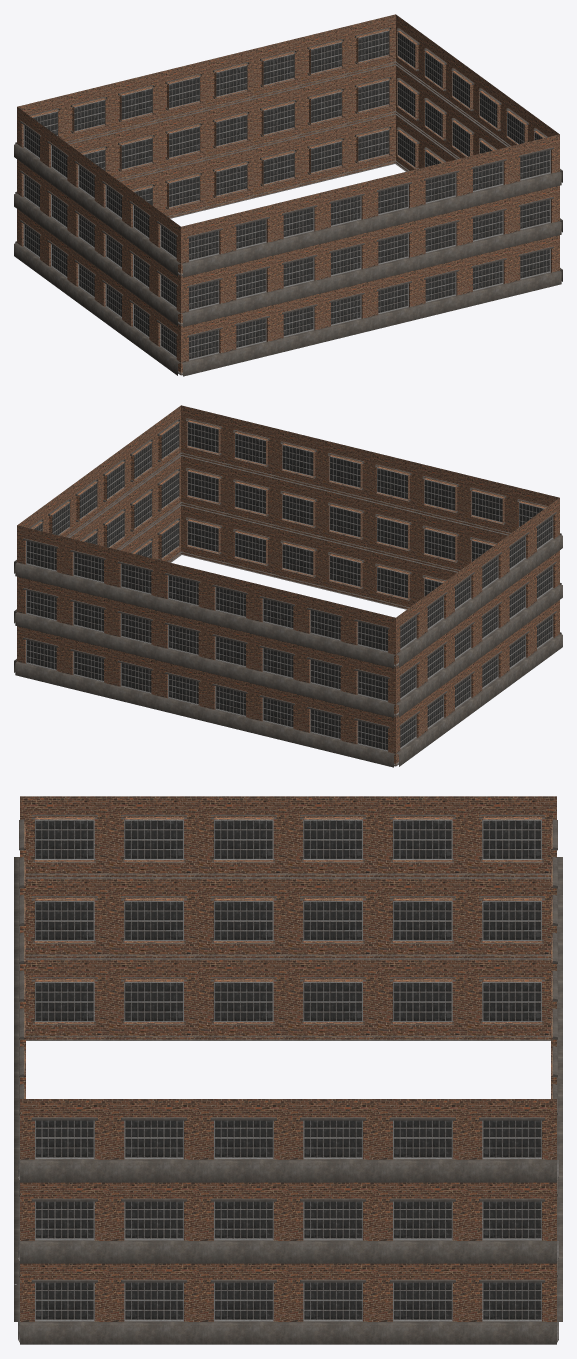
Rendered from factory_building_fixed.glb.
3 views of the same model, one above another, from view 1: azimuth 30°, elevation 25°; view 2: azimuth 150°, elevation 25°; view 3: azimuth 270°, elevation 25° (orthographic). The views are drawn at different scales.
Visible parts, largest first — view 1: FactoryFacade; view 2: FactoryFacade; view 3: FactoryFacade.
Part boxes in pixels (<box>): FactoryFacade: <box>14,14,562,376</box>; FactoryFacade: <box>14,405,562,767</box>; FactoryFacade: <box>14,796,562,1344</box>.
Bounding box in the file's own units: 24.4 × 9 × 18.4.
Materials: 4 (4 with a texture image).
